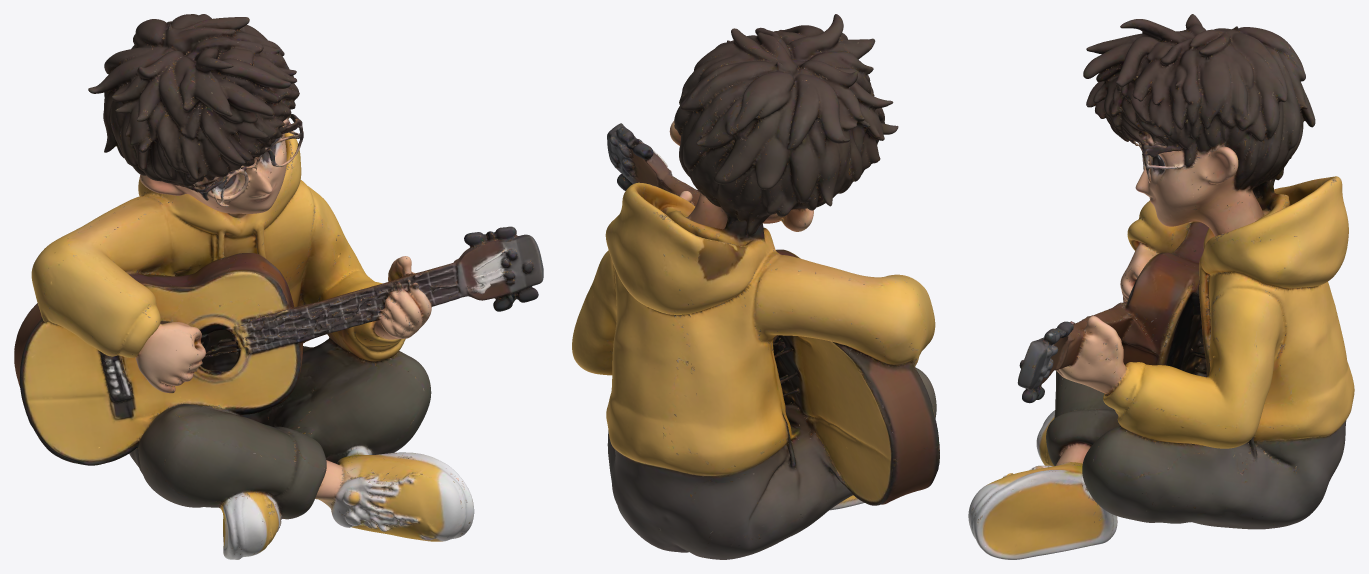
File: myself.glb
The picture shows the model from 3 angles, left to right: view 1: azimuth 30°, elevation 25°; view 2: azimuth 150°, elevation 25°; view 3: azimuth 270°, elevation 25°; orthographic projection. The views are drawn at different scales.
Bounding box in the file's own units: 1.84 × 2 × 1.5.
1 material, 1 textured.
